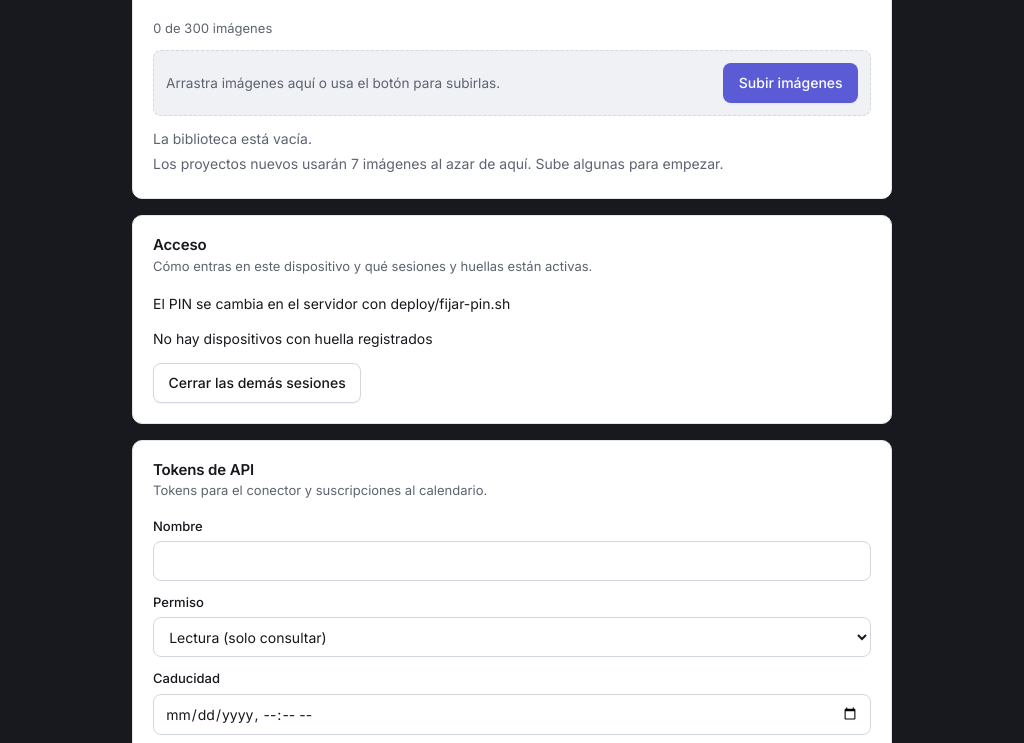
Ajustes › cierra las demás sesiones y muestra cuántas se cerraron
(page scrolled)
Step 1. Click the button "Cerrar las demás sesiones" → (257, 382), box [153, 362, 361, 402]
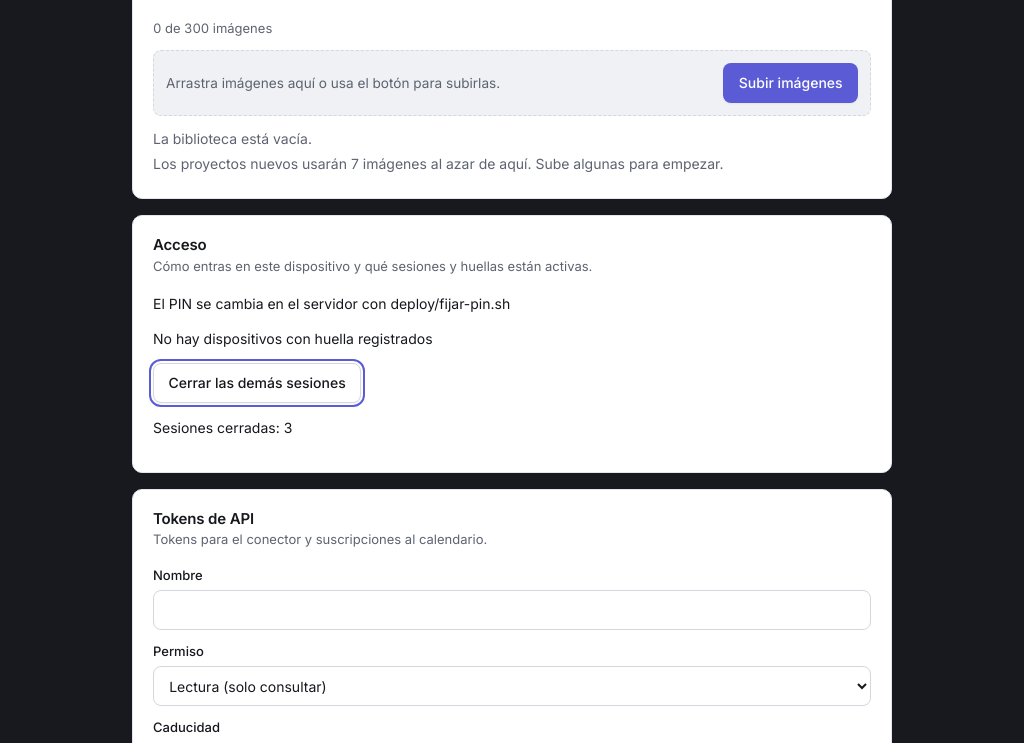
Now the text "Sesiones cerradas: 3" is shown, box [153, 418, 292, 436]
